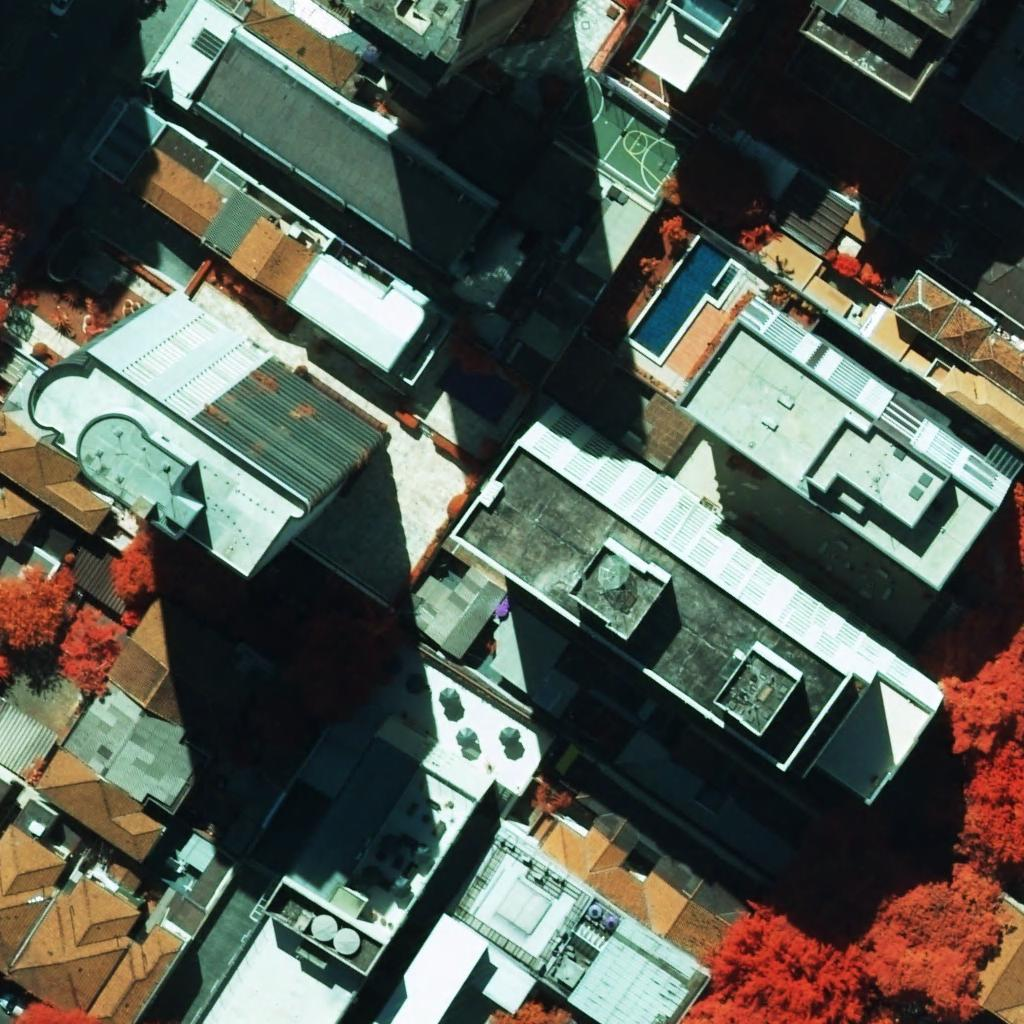pool: (629, 237, 730, 357)
